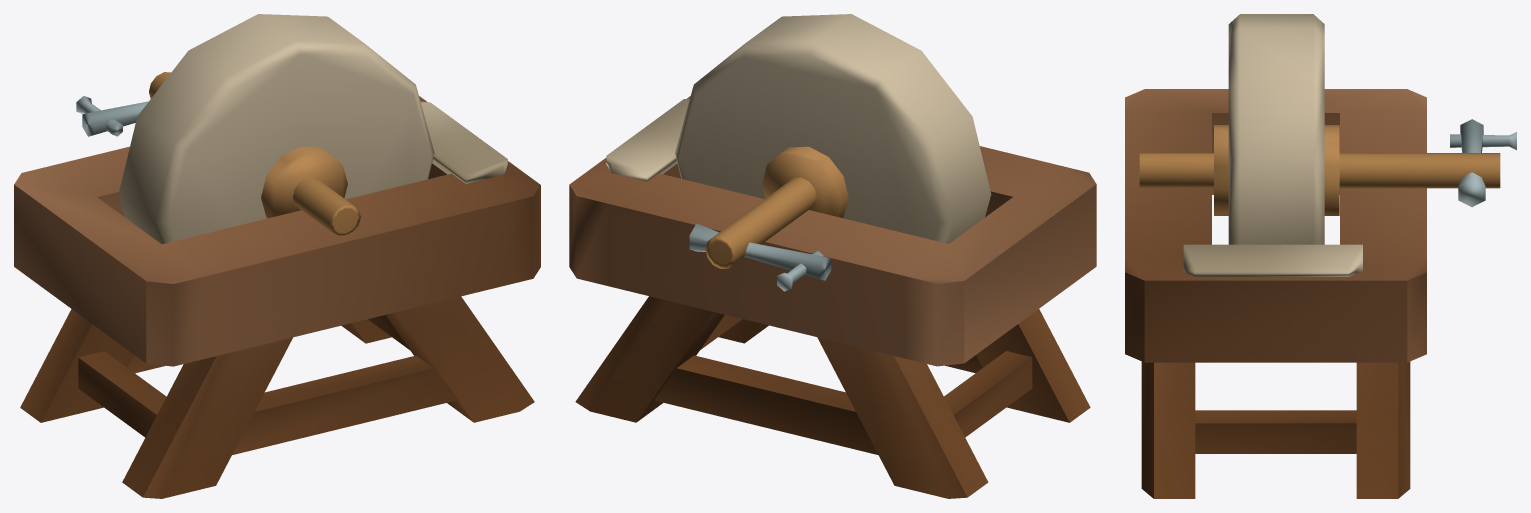
File: Grindstone.gltf
3 renders of one model, left to right at view 1: azimuth 30°, elevation 25°; view 2: azimuth 150°, elevation 25°; view 3: azimuth 270°, elevation 25°, orthographic.
Parts seen in each view (by area): view 1: Grindstone_Bench, Grindstone_Wheel, Grindstone_Centre, Grindstone_Toolrest, Grindstone_Handle; view 2: Grindstone_Bench, Grindstone_Wheel, Grindstone_Centre, Grindstone_Toolrest, Grindstone_Handle; view 3: Grindstone_Bench, Grindstone_Wheel, Grindstone_Centre, Grindstone_Toolrest, Grindstone_Handle.
Part boxes in pixels (x1,y1,x2,y2): Grindstone_Bench: (14, 96, 540, 498); Grindstone_Wheel: (118, 14, 434, 244); Grindstone_Centre: (149, 72, 360, 236); Grindstone_Toolrest: (420, 101, 507, 183); Grindstone_Handle: (76, 96, 148, 136); Grindstone_Bench: (569, 96, 1096, 498); Grindstone_Wheel: (675, 14, 991, 243); Grindstone_Centre: (705, 146, 848, 268); Grindstone_Toolrest: (606, 98, 689, 181); Grindstone_Handle: (689, 223, 831, 291); Grindstone_Bench: (1125, 89, 1426, 498); Grindstone_Wheel: (1228, 14, 1324, 244); Grindstone_Centre: (1139, 125, 1500, 215); Grindstone_Toolrest: (1183, 244, 1362, 276); Grindstone_Handle: (1450, 119, 1516, 207).
Bounding box in the file's own units: 1.5 × 1.37 × 1.3.
1 material, 1 textured.
